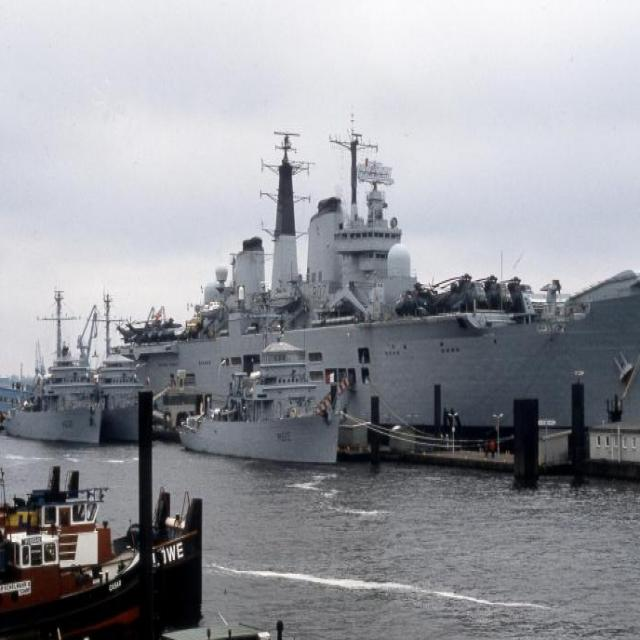Portanaves: (73, 122, 640, 447)
